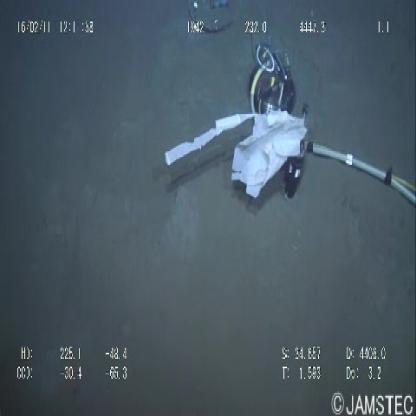Rác: (161, 102, 309, 205)
